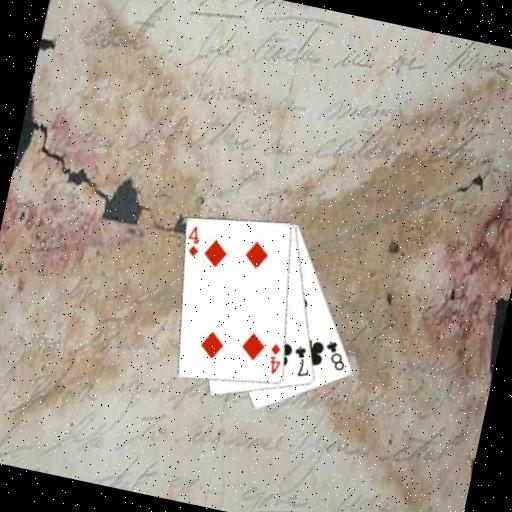4D: (263, 340, 286, 377), (182, 222, 205, 259)
7C: (287, 342, 316, 380)
8C: (318, 336, 351, 373)
